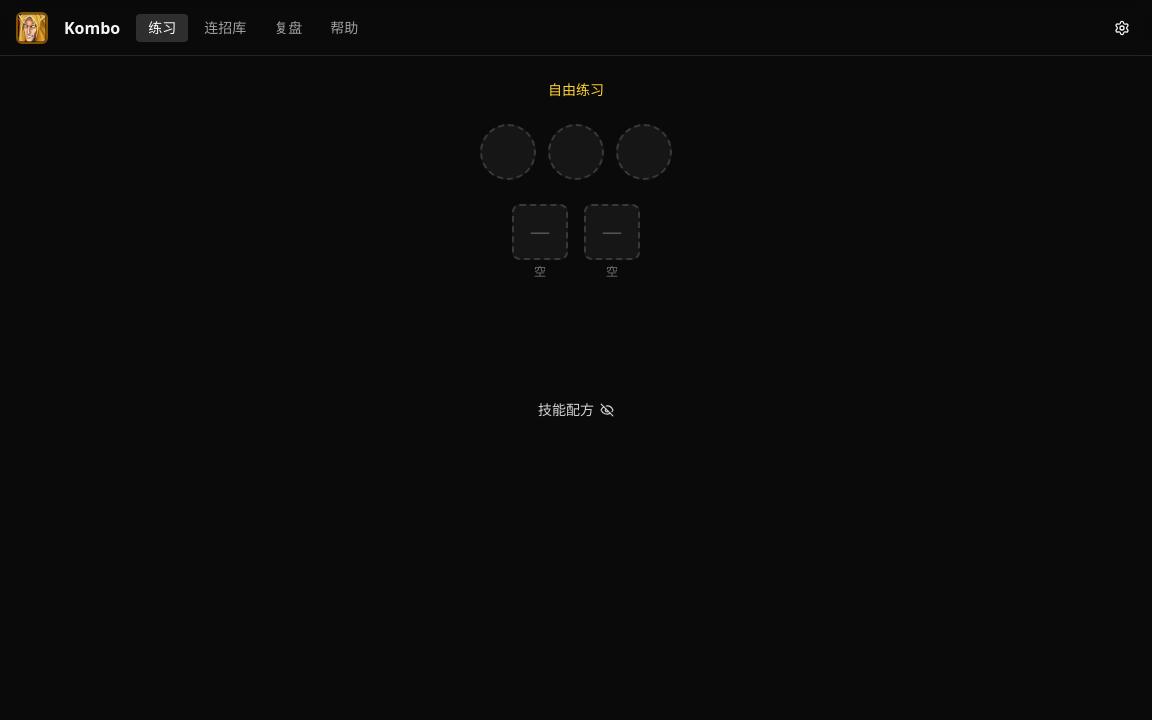
Test: App — 视图路由 + i18n › 语言切换后导航与自由练习文案变英文
# 语言切换按钮在齿轮弹层内,先点开
Click the button named "设置" at (1122, 28), box [1108,14,1136,42]
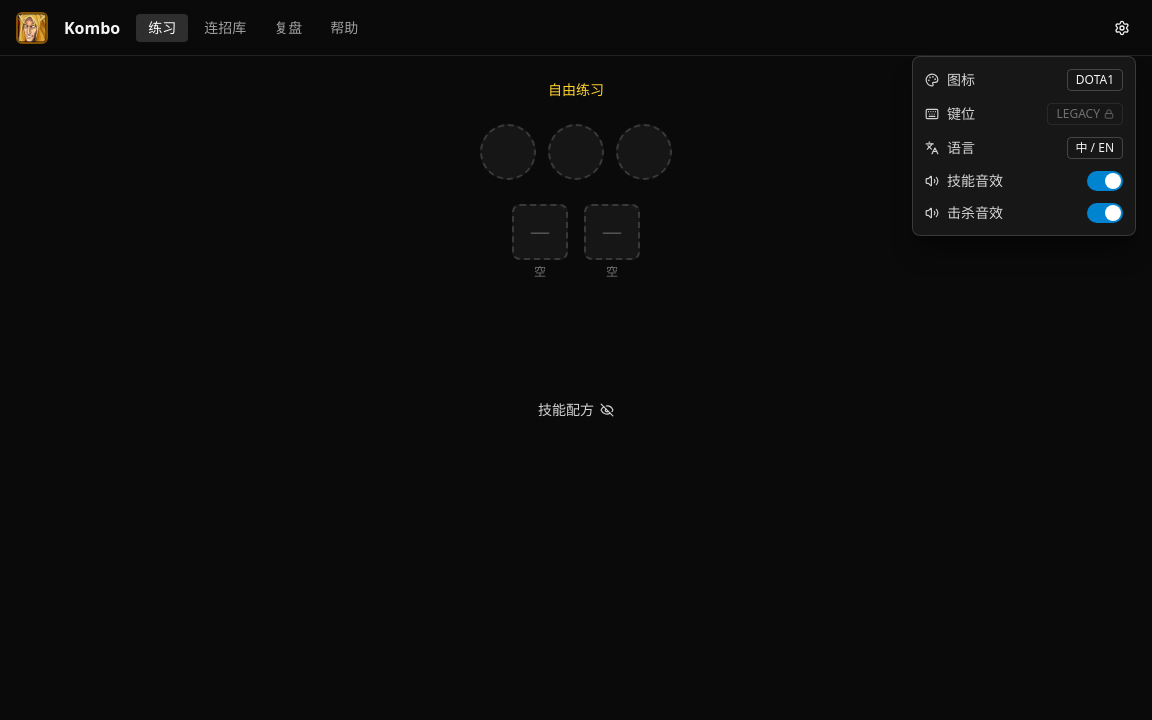
Click the button with aria-label "语言" at (1095, 148), box [1066,137,1123,159]
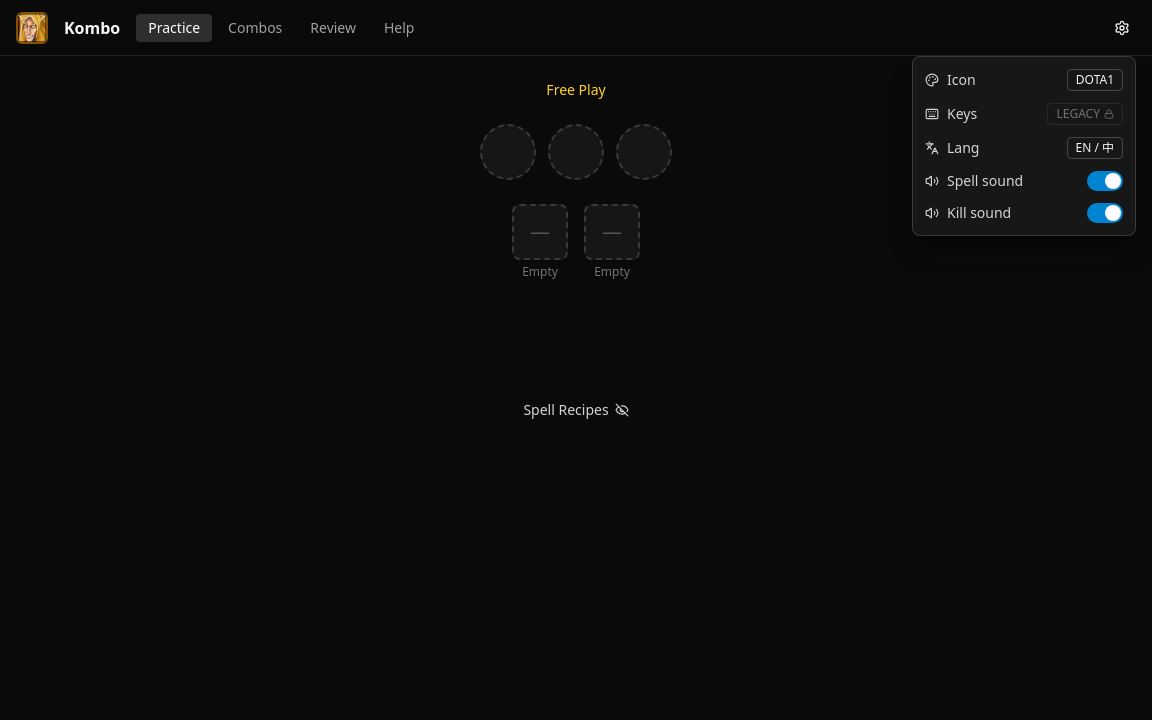
Now the button "Practice" is shown, box [136,14,212,42]
Now the text "Free Play" is shown, box [546,80,606,100]
